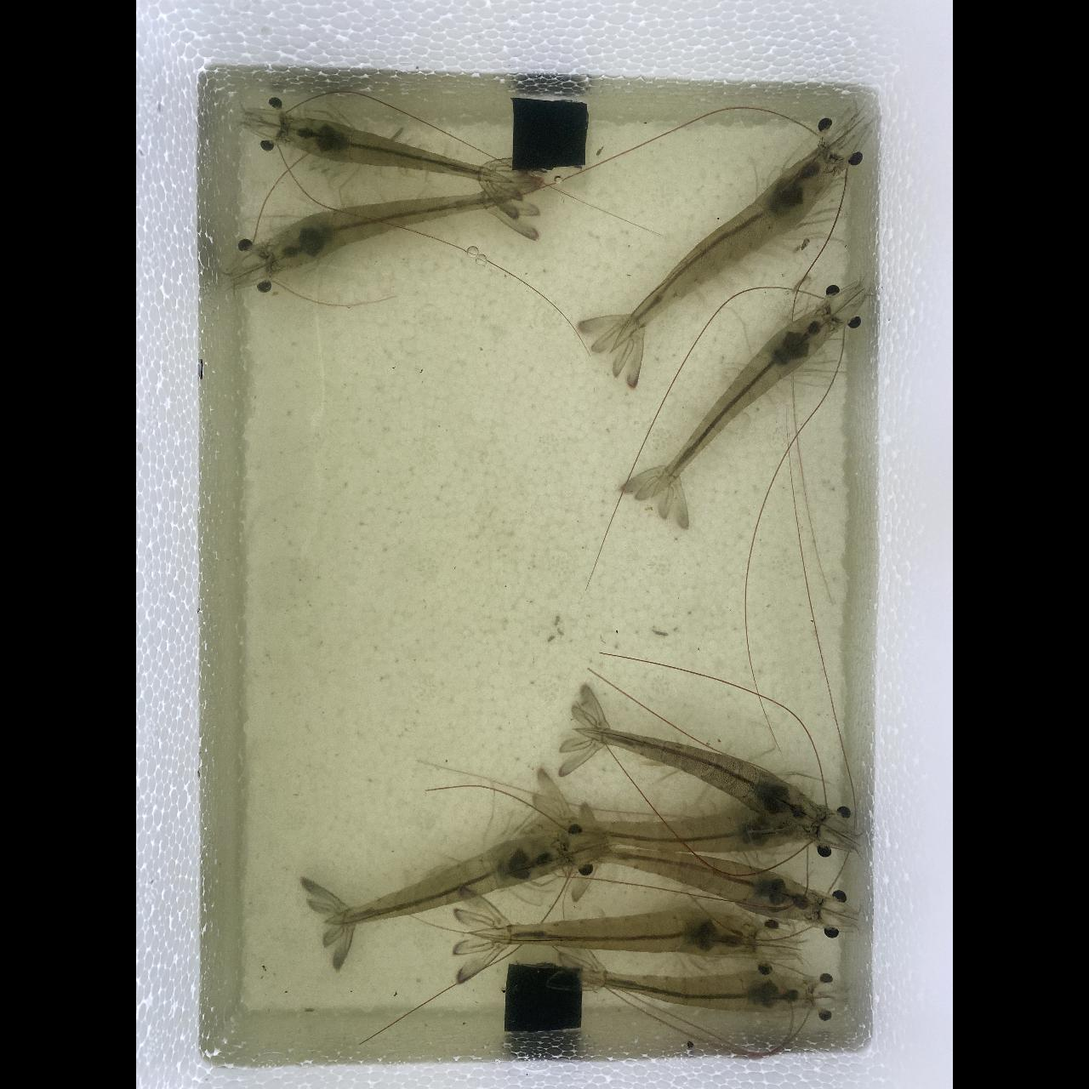box: (512, 97, 587, 168), (505, 963, 582, 1031)
top_shrimp: (604, 151, 835, 345), (652, 308, 834, 495), (572, 727, 822, 831), (332, 832, 568, 924), (577, 845, 819, 920), (267, 196, 514, 267), (475, 909, 786, 958), (284, 117, 512, 182), (553, 808, 810, 852), (580, 966, 810, 1006)
